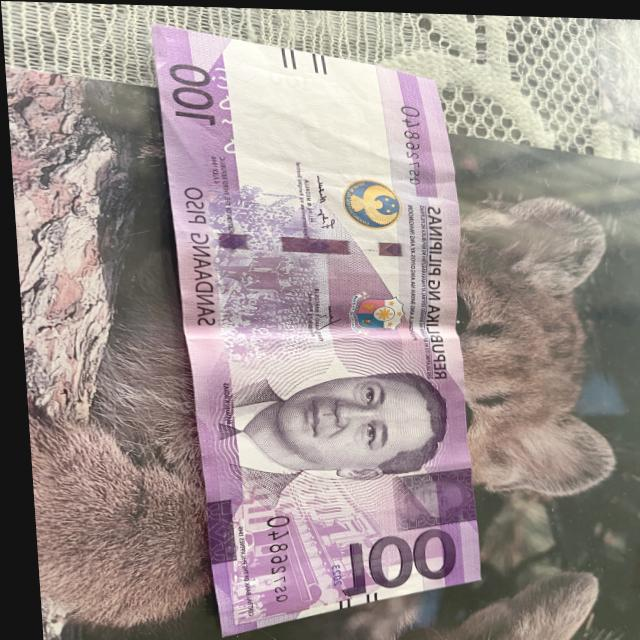concealed_value: (384, 461, 468, 531)
security_thread: (171, 231, 454, 255)
see_through_mark: (209, 56, 240, 154)
serial_number: (384, 88, 429, 195), (258, 511, 288, 602)
value: (330, 523, 449, 596)
value_watermark: (270, 71, 307, 88)
watermark: (234, 69, 388, 171)
